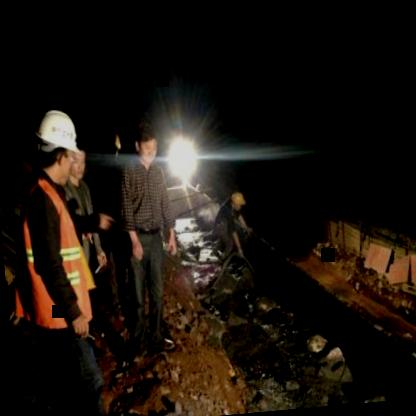helmet: (34, 105, 82, 187), (228, 188, 247, 212)
